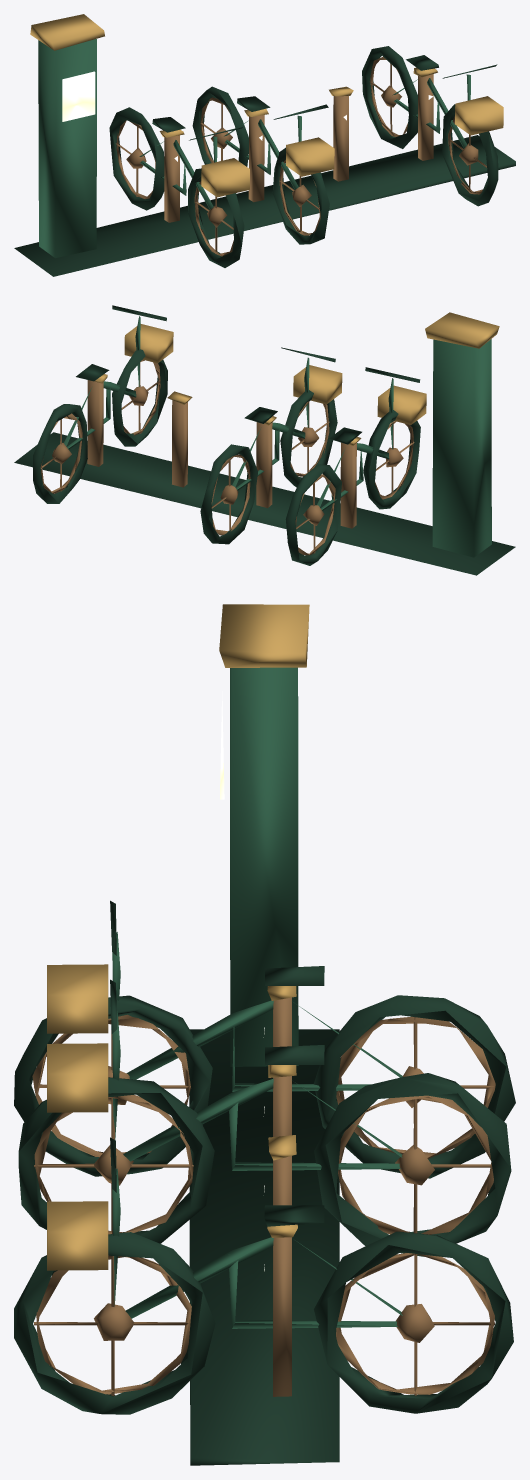
Rendered from bike_share_dock.glb.
3 renders of one model, top to bottom at view 1: azimuth 30°, elevation 25°; view 2: azimuth 150°, elevation 25°; view 3: azimuth 270°, elevation 25°, orthographic. The views are drawn at different scales.
Parts seen in each view (by area): view 1: bike_share_dock; view 2: bike_share_dock; view 3: bike_share_dock.
Part boxes in pixels (bbox=[...]): bike_share_dock: bbox=[14, 14, 515, 276]; bike_share_dock: bbox=[14, 305, 515, 575]; bike_share_dock: bbox=[14, 604, 515, 1465].
Size of the model in its own units: 3.4 by 1.64 by 1.67.
